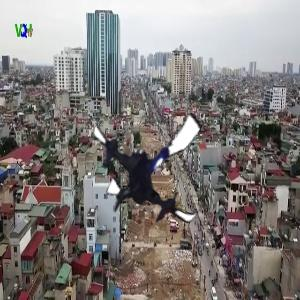drone: (79, 87, 227, 235)
